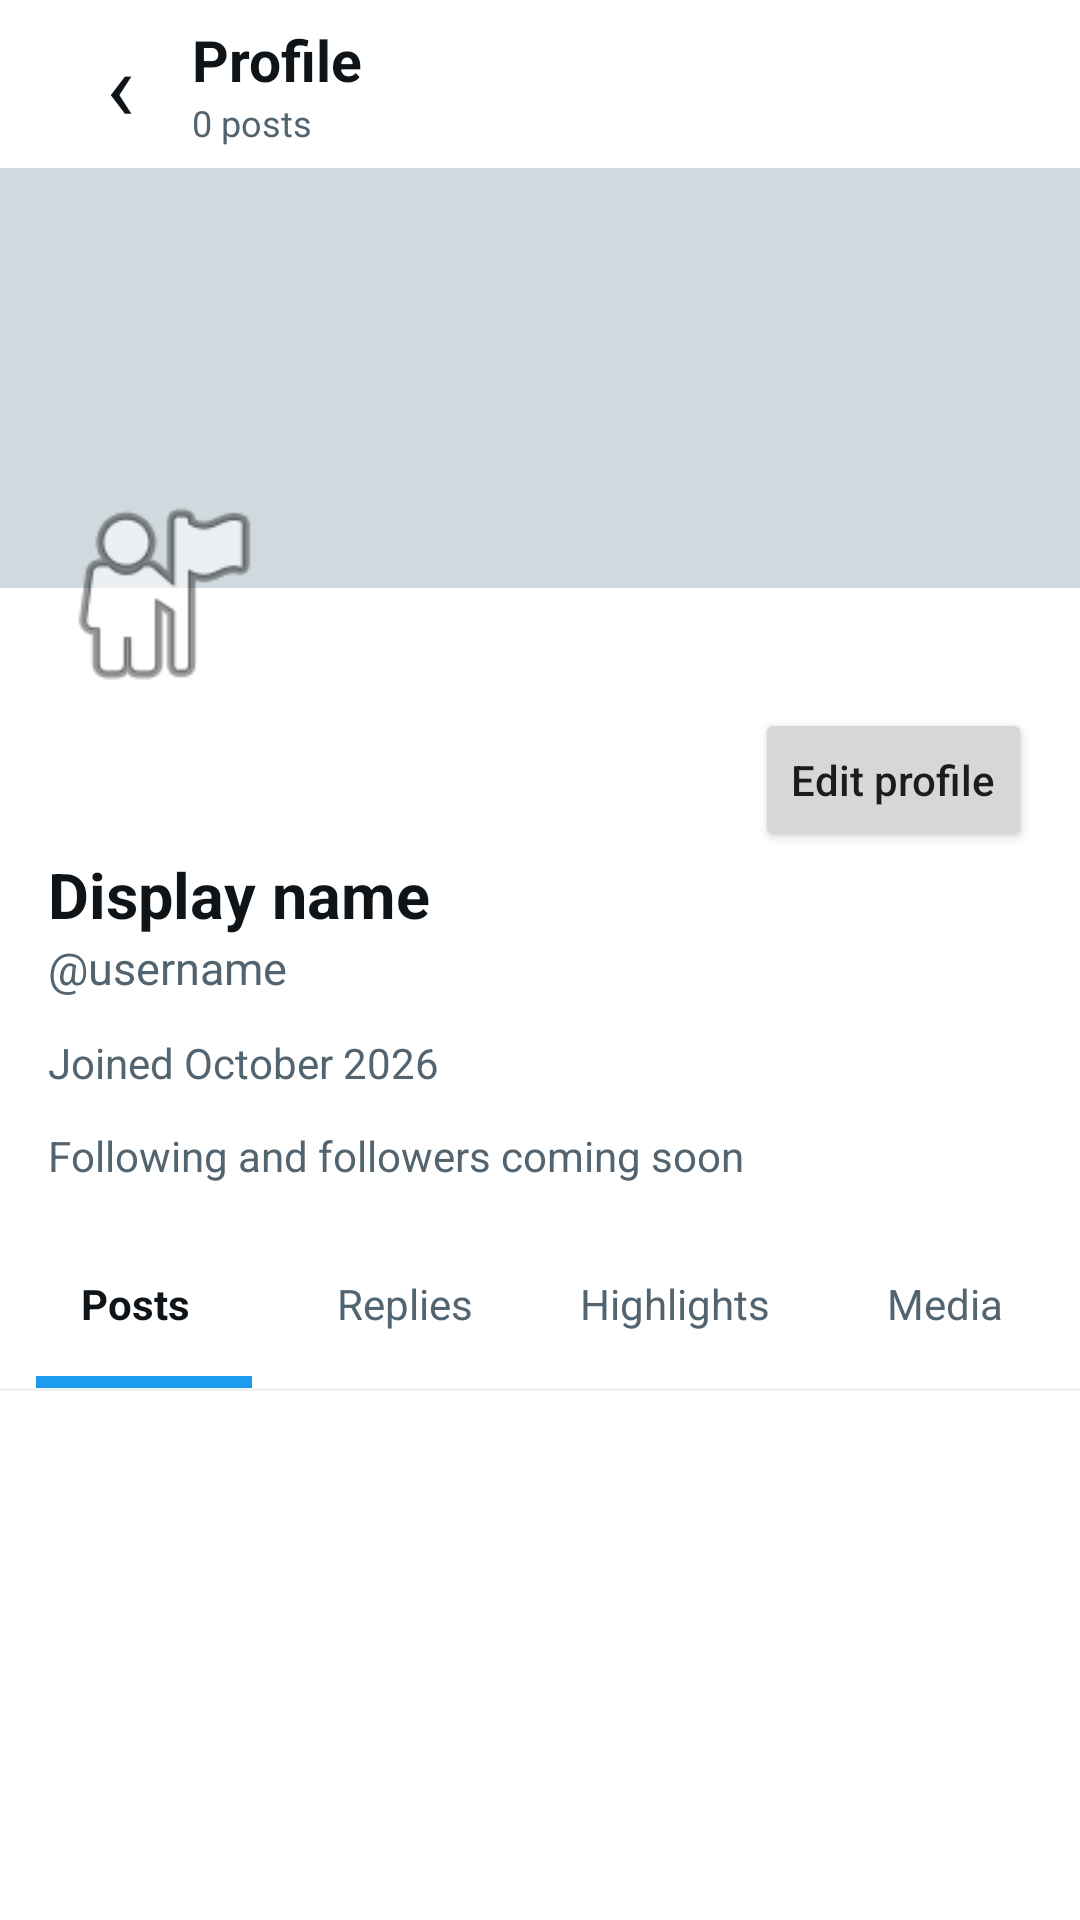

Screen size 1080px x 1920px. Icon name, then its center in pixels as (x=x, y=y):
Profile avatar: (x=162, y=594)
